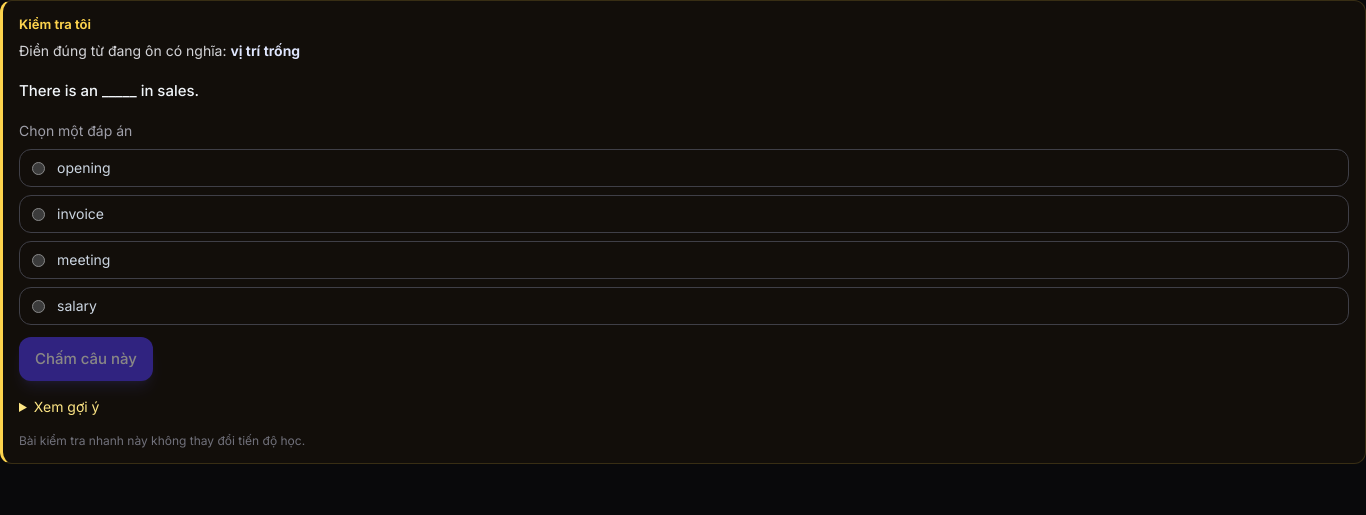
shows a wrong-answer explanation and supports MCQ selection without recording study progress
Step 1. Click the radio button labelled "invoice" → (38, 214), box [32, 208, 45, 221]
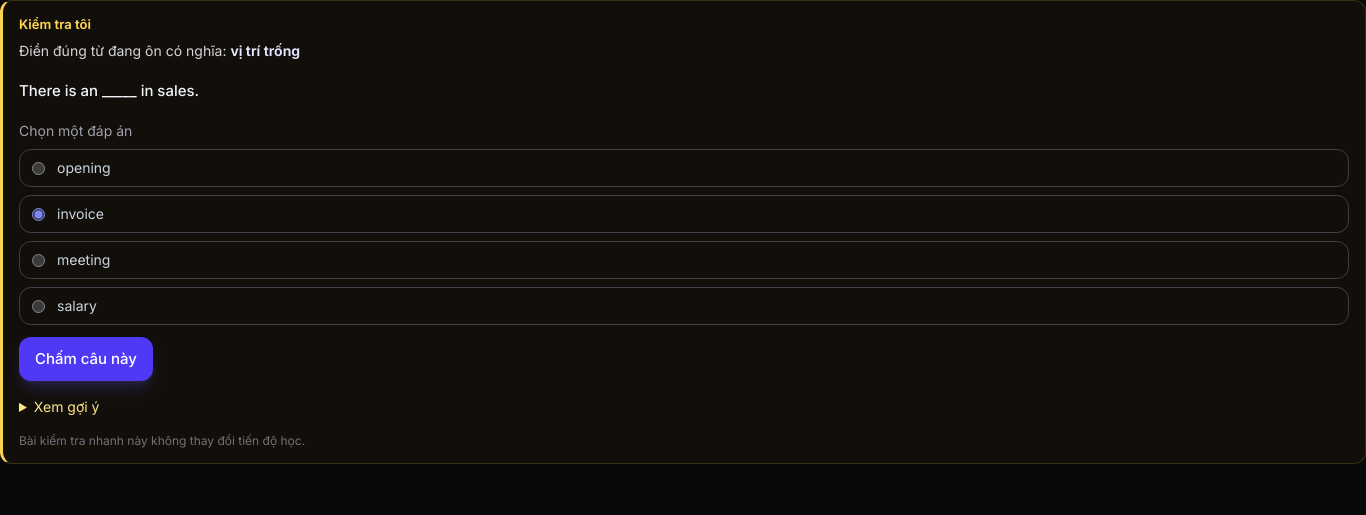
Step 2. Click the button "Chấm câu này" → (86, 359), box [19, 337, 153, 381]
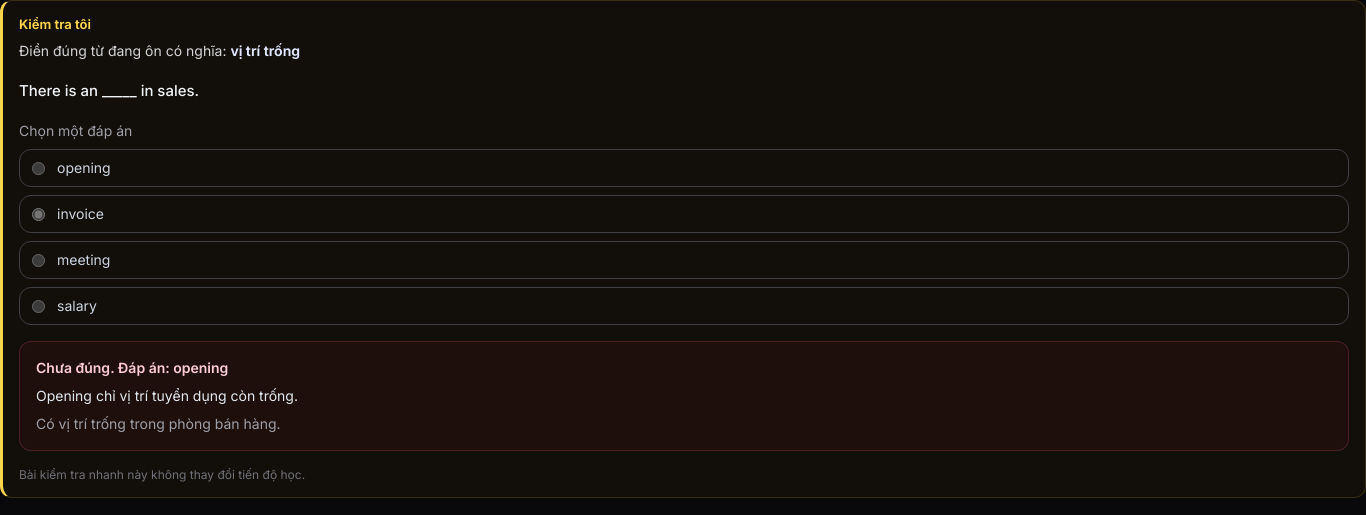
Expected: the text "Bài kiểm tra nhanh này không thay đổi tiến độ học." is shown, [19, 467, 305, 482]
Expected: the message shows "Chưa đúng. Đáp án: opening", [19, 341, 1349, 451]
